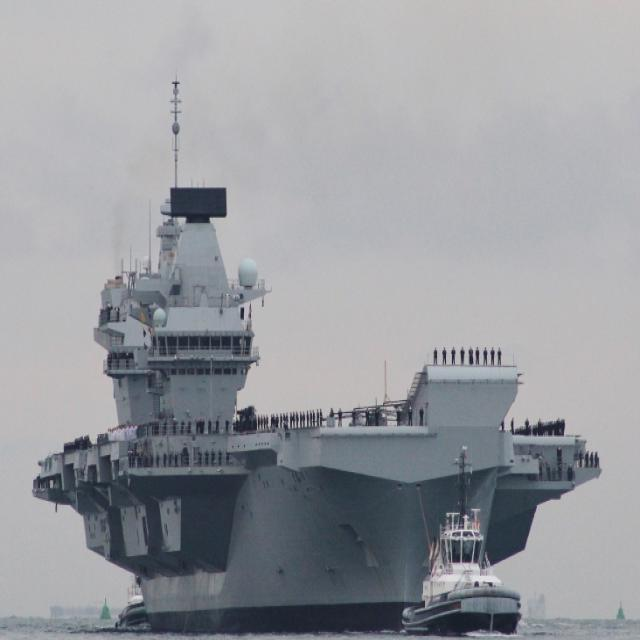Portanaves: (32, 73, 605, 640)
